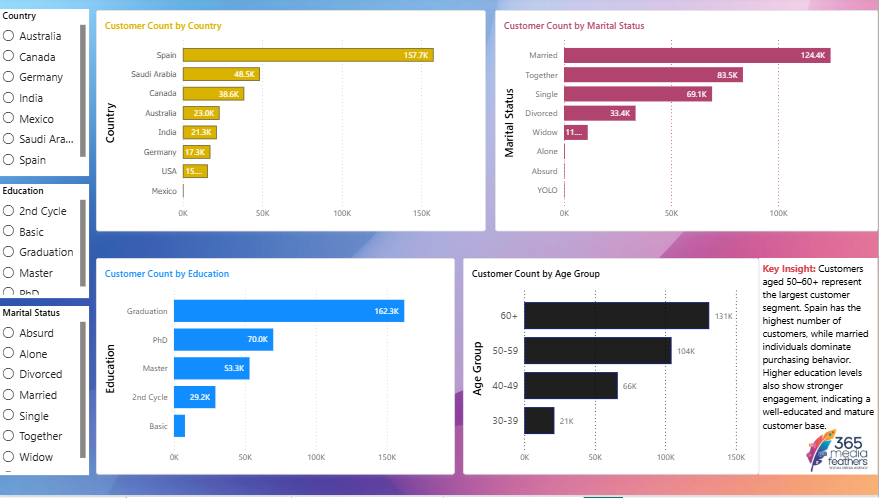

This screenshot's page, from the dashboard's own definition file:
{"tool":"powerbi","page":{"name":"Customer Insights","canvas":[1280,720],"ordinal":2},"visuals":[{"type":"listSlicer","fields":{"Values":["365 Media Feathers Inc.Country"]},"box":[0,13.5,131.1,243.3],"z":0},{"type":"listSlicer","fields":{"Values":["365 Media Feathers Inc.Education"]},"box":[0,267.6,131.1,166.3],"z":1000},{"type":"listSlicer","fields":{"Values":["365 Media Feathers Inc.Marital_Status"]},"box":[0,444.7,131.1,246],"z":2000},{"type":"clusteredBarChart","fields":{"Category":["365 Media Feathers Inc.Country"],"Y":["CountNonNull(365 Media Feathers Inc.ID)"]},"box":[141.4,14,566.6,321.6],"z":3000},{"type":"clusteredBarChart","title":"Customer Count by Education","fields":{"Category":["365 Media Feathers Inc.Education"],"Y":["CountNonNull(365 Media Feathers Inc.ID)"]},"box":[141.4,375.6,522.4,315.1],"z":4000},{"type":"clusteredBarChart","fields":{"Category":["365 Media Feathers Inc.Marital_Status"],"Y":["CountNonNull(365 Media Feathers Inc.ID)"]},"box":[720.9,14,559.1,321.6],"z":5000},{"type":"textbox","box":[1105.7,375.8,174.4,314.9],"z":6000},{"type":"clusteredBarChart","fields":{"Category":["365 Media Feathers Inc.Age Group"],"Y":["CountNonNull(365 Media Feathers Inc.ID)"]},"box":[674.5,375.6,430.6,315.1],"z":7000},{"type":"image","box":[1158.4,597.5,121.7,113.5],"z":7001}]}

Visuals, with their boxes on the page's 1280x720 design canvas (x1, y1, x2, y2). These are canvas units, not pixel positions in the 880x498 screenshot, which may show the page scaled, cropped or inside an application window:
listSlicer - 365 Media Feathers Inc.Country: <bbox>0, 14, 131, 257</bbox>
listSlicer - 365 Media Feathers Inc.Education: <bbox>0, 268, 131, 434</bbox>
listSlicer - 365 Media Feathers Inc.Marital_Status: <bbox>0, 445, 131, 691</bbox>
clusteredBarChart - 365 Media Feathers Inc.Country x CountNonNull(365 Media Feathers Inc.ID): <bbox>141, 14, 708, 336</bbox>
"Customer Count by Education" clusteredBarChart: <bbox>141, 376, 664, 691</bbox>
clusteredBarChart - 365 Media Feathers Inc.Marital_Status x CountNonNull(365 Media Feathers Inc.ID): <bbox>721, 14, 1280, 336</bbox>
textbox: <bbox>1106, 376, 1280, 691</bbox>
clusteredBarChart - 365 Media Feathers Inc.Age Group x CountNonNull(365 Media Feathers Inc.ID): <bbox>674, 376, 1105, 691</bbox>
image: <bbox>1158, 598, 1280, 711</bbox>
